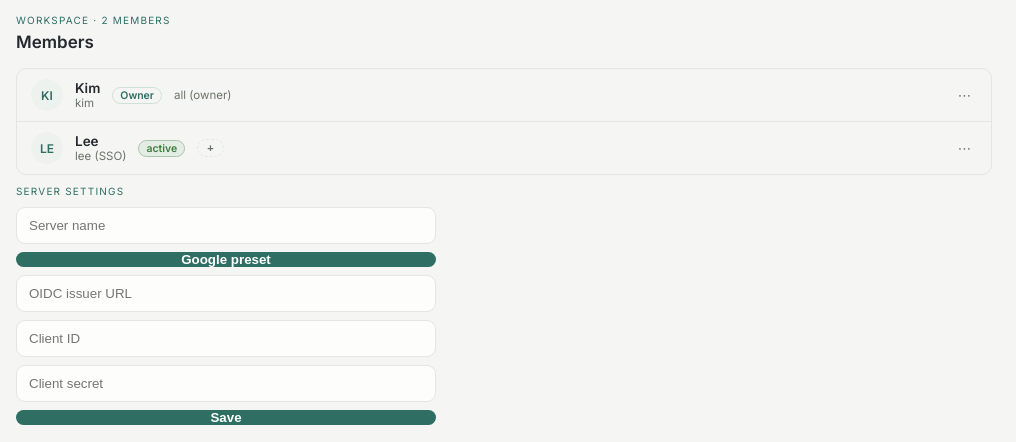
Test case: AdminArea › active member 행 ⋯ 메뉴에 suspend·forceLogout, owner 행엔 suspend 항목 없음
The image size is (1016, 442).
Click the button with class "rowMenuBtn" in the row of "active": x=964, y=148 [952, 140, 977, 156]
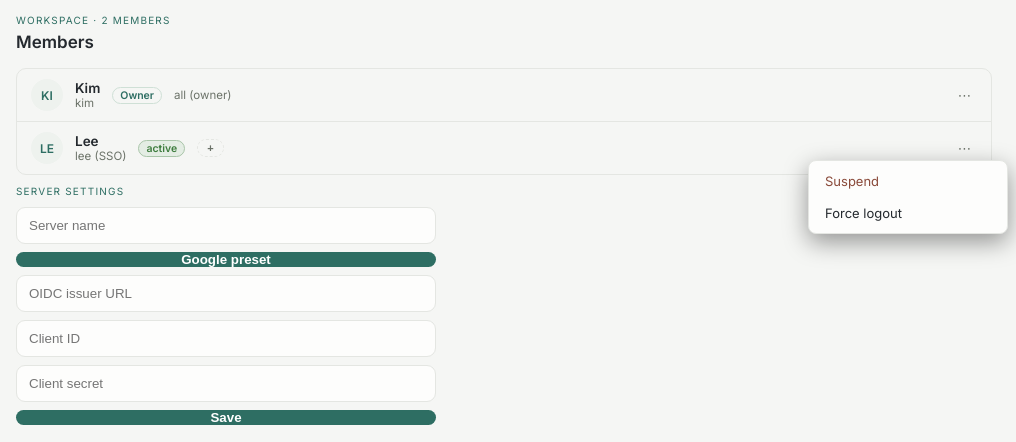
Click the text "Suspend": x=852, y=180 [825, 172, 879, 188]
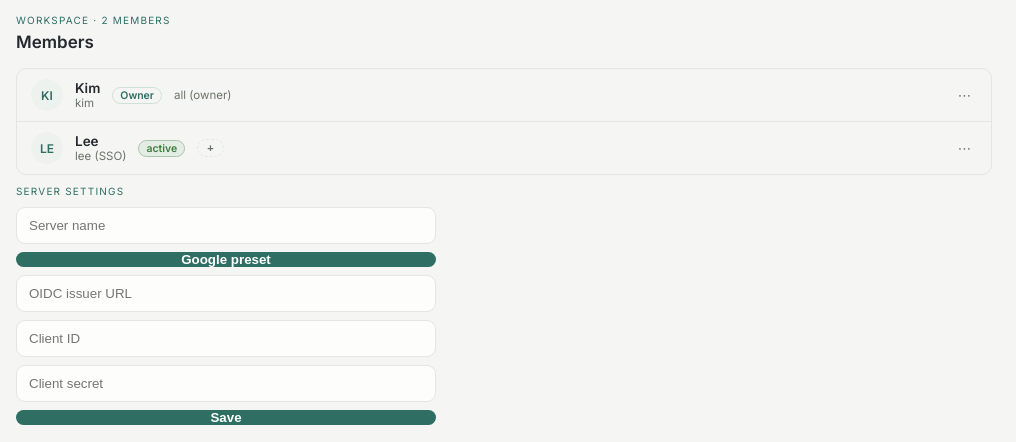
Click the button with class "rowMenuBtn" in the row of "all (owner)": x=964, y=95 [952, 88, 977, 102]
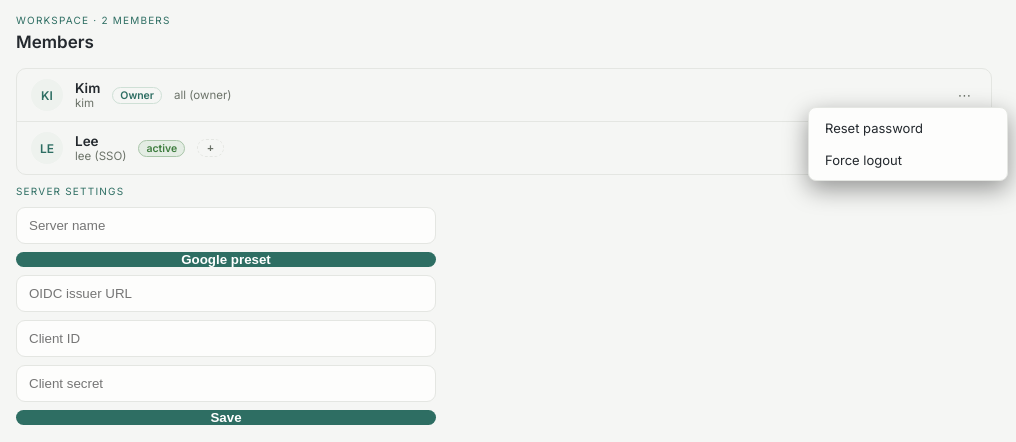
Expected: the text "Suspend" is not shown
Now the text "Force logout" is shown, box [825, 152, 902, 168]
